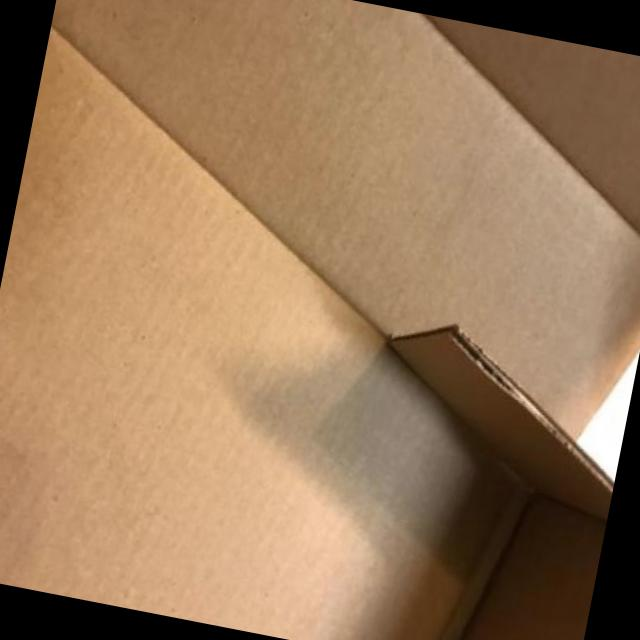cardboard paper: (0, 29, 475, 640), (52, 0, 640, 436), (427, 15, 640, 234), (392, 327, 614, 521), (462, 498, 606, 640)
